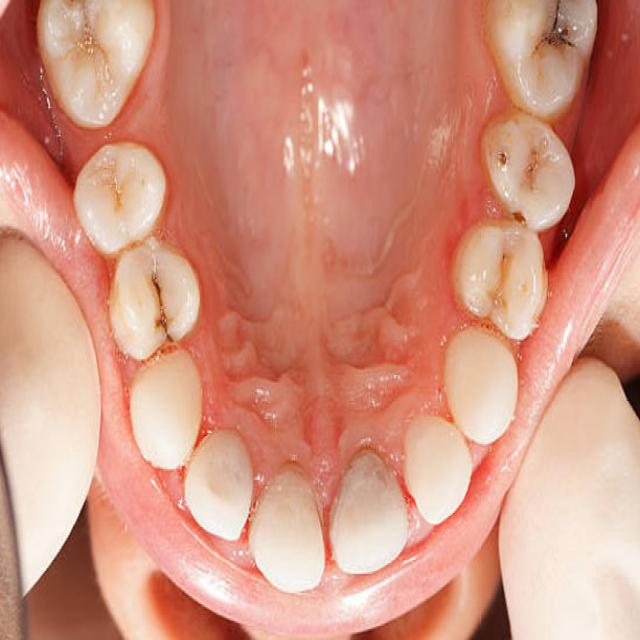caries: (130, 260, 190, 350), (521, 0, 590, 75), (480, 241, 527, 321), (519, 130, 553, 214), (486, 131, 516, 193)
